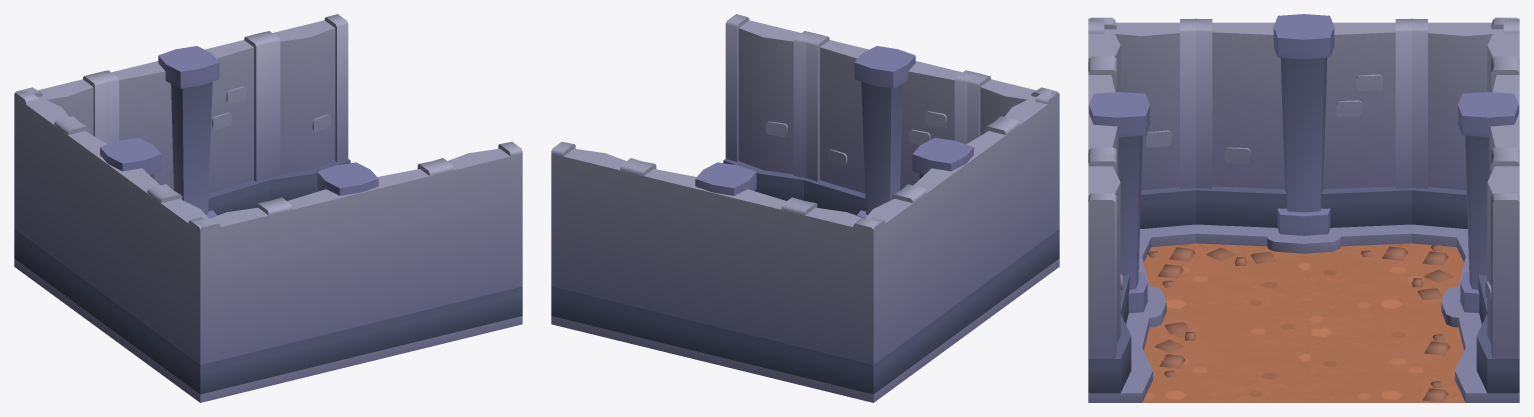
File: corridor_wide_end.glb
3 views of the same model, side by side, from view 1: azimuth 30°, elevation 25°; view 2: azimuth 150°, elevation 25°; view 3: azimuth 270°, elevation 25° (orthographic). The views are drawn at different scales.
Parts seen in each view (by area): view 1: corridor-wide-end; view 2: corridor-wide-end; view 3: corridor-wide-end.
Boxes of the visible parts, x1,y1,x2,y2 form: corridor-wide-end: [14, 14, 522, 402]; corridor-wide-end: [551, 14, 1059, 402]; corridor-wide-end: [1088, 14, 1519, 402].
Size of the model in its own units: 8 by 4.23 by 8.
Materials: 1 (1 with a texture image).
